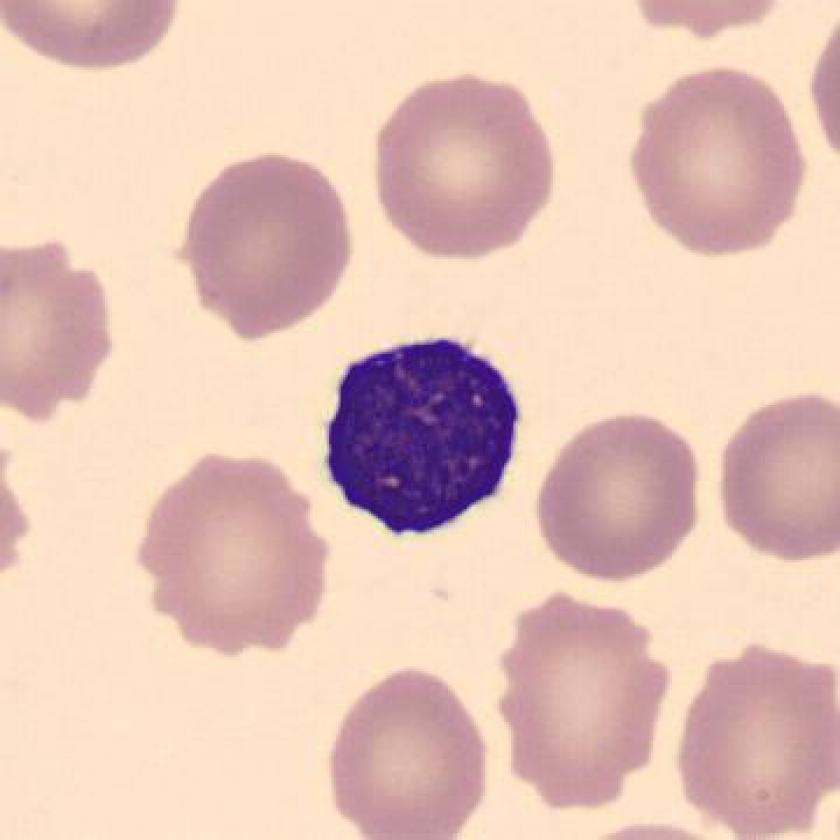lymphocyte: (314, 335, 538, 557)
